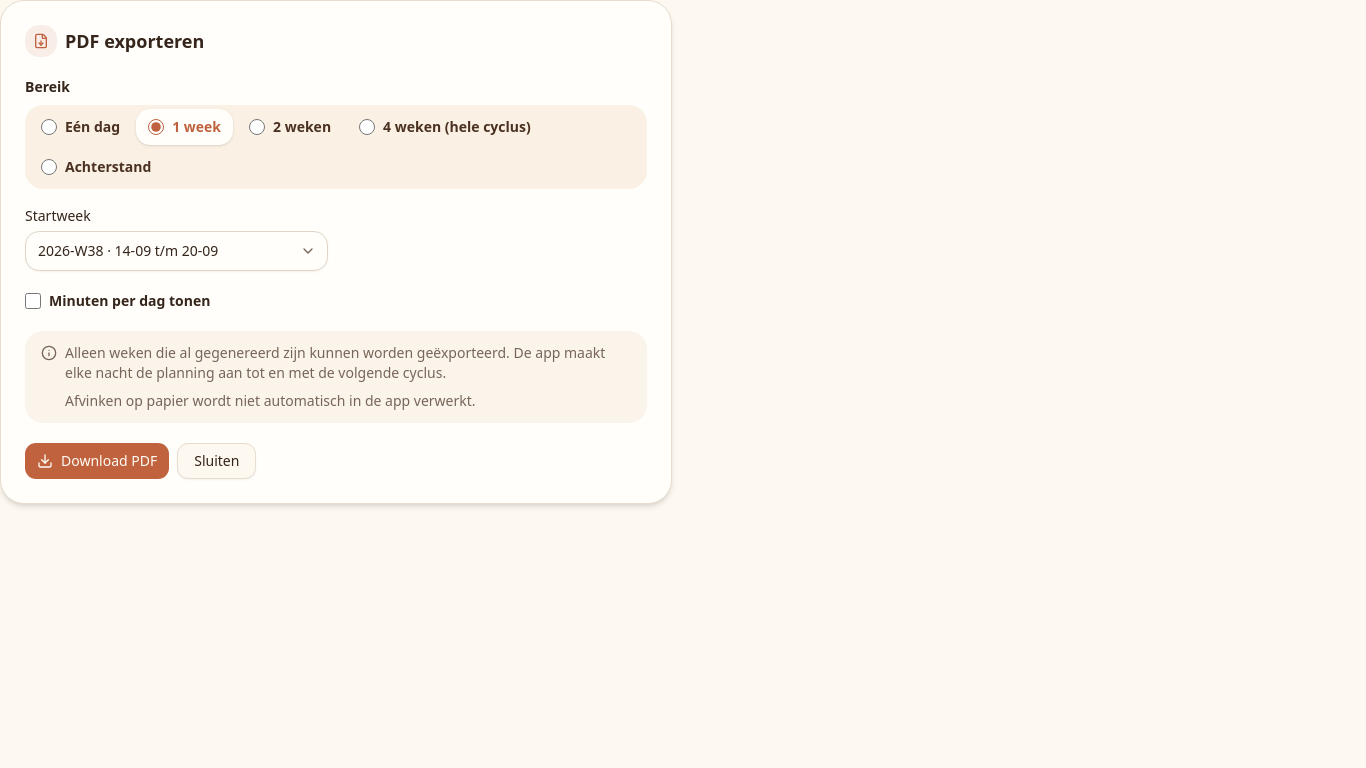
Test: ExportDialog › disables the download for a day that is not generated
Click the radio button labelled "Eén dag".
click(49, 127)  # box [41,119,57,135]
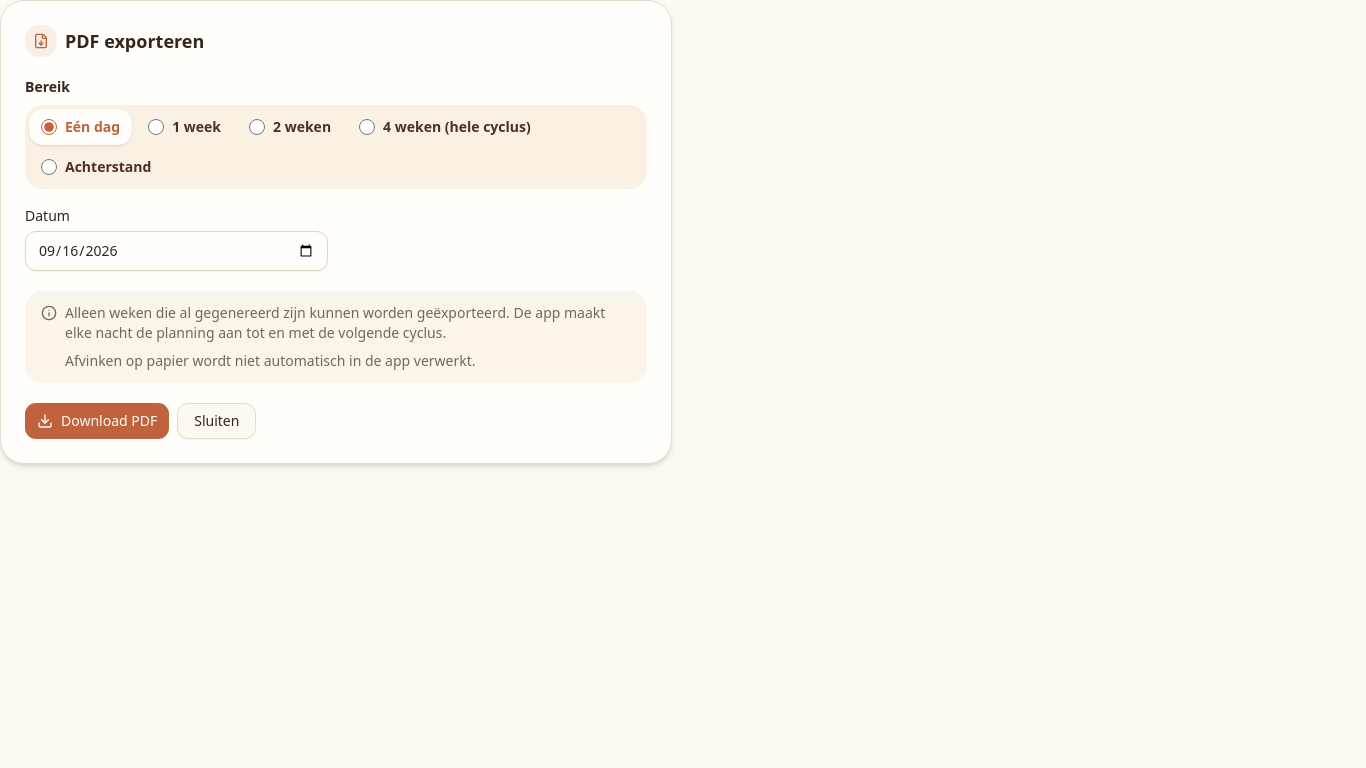
Expected: the date field labelled "Datum" holds "2026-09-16"
Type "2026-11-20" into the date field labelled "Datum".
click(176, 251); type("2026-11-20")  # box [25,231,328,271]
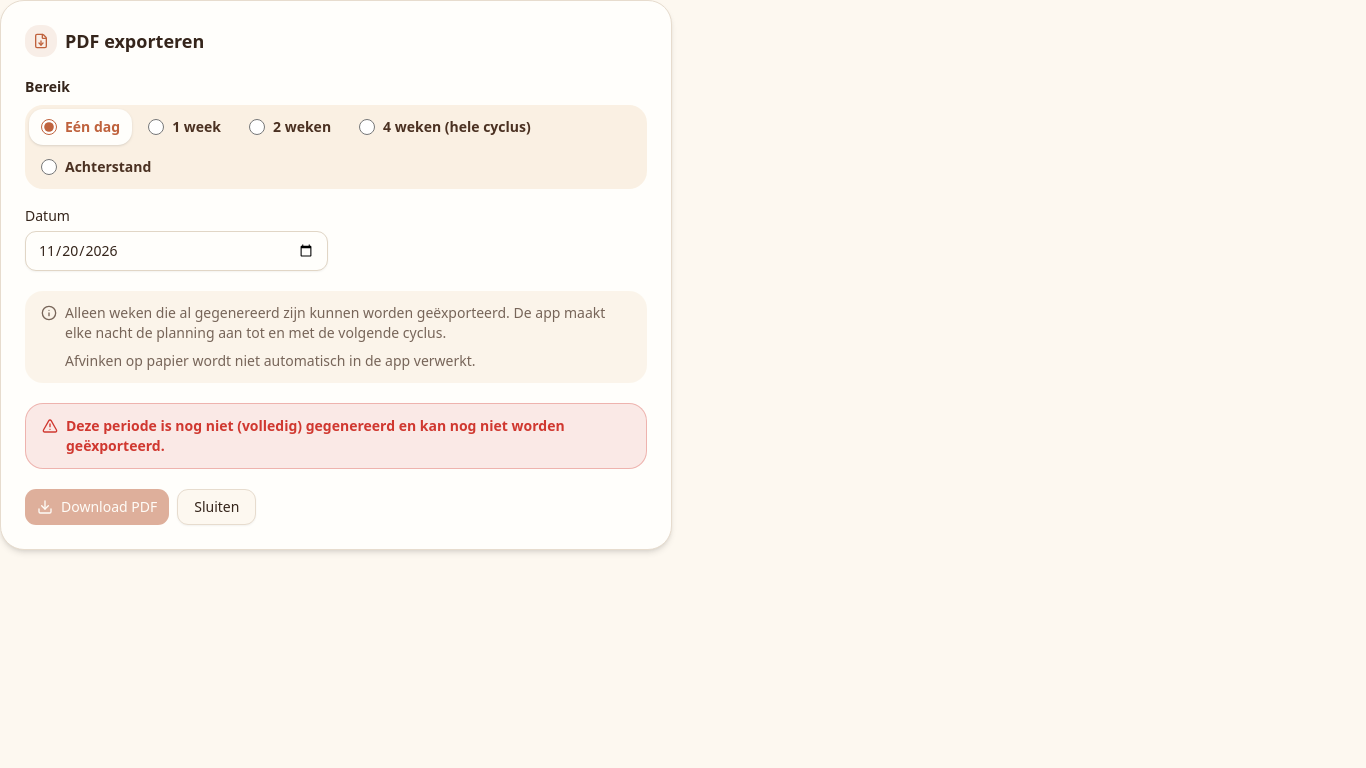
Expected: the button "Download PDF" is disabled, [25,489,169,525]
Expected: the message shows "nog niet (volledig) gegenereerd", [66,416,565,455]
